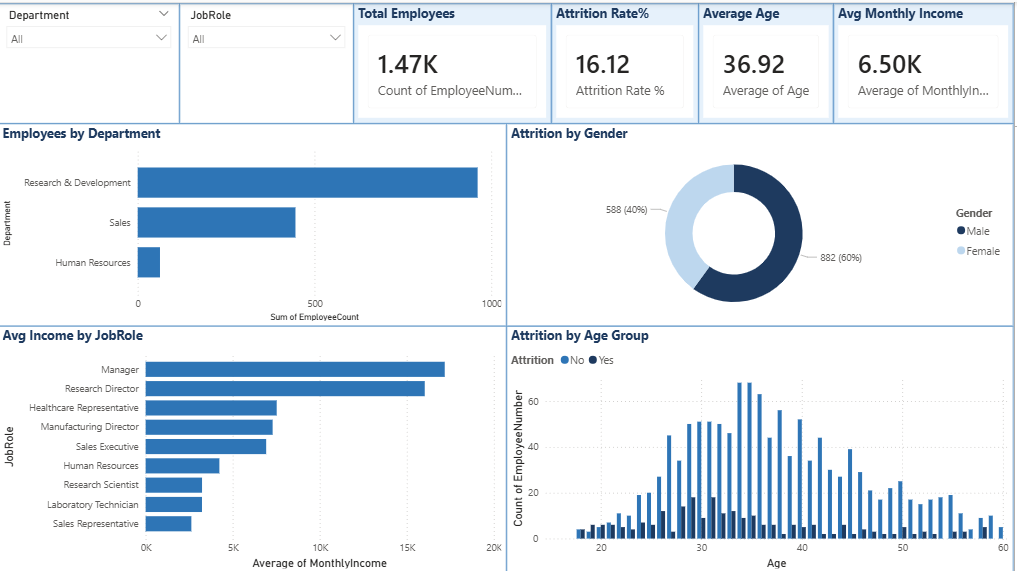

This screenshot's page, from the dashboard's own definition file:
{"tool":"powerbi","page":{"name":"Page 1","canvas":[1280,720],"ordinal":0},"visuals":[{"type":"cardVisual","title":"Total Employees","fields":{"Data":["CountNonNull(hr_analytics.EmployeeNumber)"]},"box":[447.9,1.9,249.5,151.2],"z":0},{"type":"cardVisual","title":"Attrition Rate%","fields":{"Data":["hr_analytics.Attrition Rate %"]},"box":[697.3,1.9,185.2,151.2],"z":1},{"type":"cardVisual","title":"Avg Monthly Income","fields":{"Data":["Avg(hr_analytics.MonthlyIncome)"]},"box":[1052.6,1.9,226.8,151.2],"z":2},{"type":"cardVisual","title":"Average Age","fields":{"Data":["Avg(hr_analytics.Age)"]},"box":[882.5,1.9,170.1,151.2],"z":3},{"type":"clusteredBarChart","title":"Employees by Department","fields":{"Category":["hr_analytics.Department"],"Y":["Sum(hr_analytics.EmployeeCount)"]},"box":[0,153.1,640.6,255.1],"z":4},{"type":"clusteredBarChart","title":"Avg Income by JobRole","fields":{"Category":["hr_analytics.JobRole"],"Y":["Avg(hr_analytics.MonthlyIncome)"]},"box":[0,408.2,640.6,311.8],"z":5},{"type":"clusteredColumnChart","title":" Attrition by Age Group","fields":{"Category":["hr_analytics.Age"],"Y":["CountNonNull(hr_analytics.EmployeeNumber)"],"Series":["hr_analytics.Attrition"]},"box":[640.6,408.2,638.7,311.8],"z":6},{"type":"donutChart","title":"Attrition by Gender","fields":{"Category":["hr_analytics.Gender"],"Y":["CountNonNull(hr_analytics.Attrition)"]},"box":[640.6,153.1,638.7,255.1],"z":7},{"type":"slicer","fields":{"Values":["hr_analytics.Department"]},"box":[0,1.3,228.7,151.2],"z":8},{"type":"slicer","fields":{"Values":["hr_analytics.JobRole"]},"box":[228.7,1.9,219.2,151.2],"z":9}]}

Visuals, with their boxes in screenshot pixels (x1, y1, x2, y2), scaled from the page's 1280x720 canvas onto the 1017x571 screenshot:
"Total Employees" cardVisual: select_region(356, 2, 554, 121)
"Attrition Rate%" cardVisual: select_region(554, 2, 701, 121)
"Avg Monthly Income" cardVisual: select_region(836, 2, 1016, 121)
"Average Age" cardVisual: select_region(701, 2, 836, 121)
"Employees by Department" clusteredBarChart: select_region(0, 121, 509, 324)
"Avg Income by JobRole" clusteredBarChart: select_region(0, 324, 509, 570)
" Attrition by Age Group" clusteredColumnChart: select_region(509, 324, 1016, 570)
"Attrition by Gender" donutChart: select_region(509, 121, 1016, 324)
slicer - hr_analytics.Department: select_region(0, 1, 182, 121)
slicer - hr_analytics.JobRole: select_region(182, 2, 356, 121)
